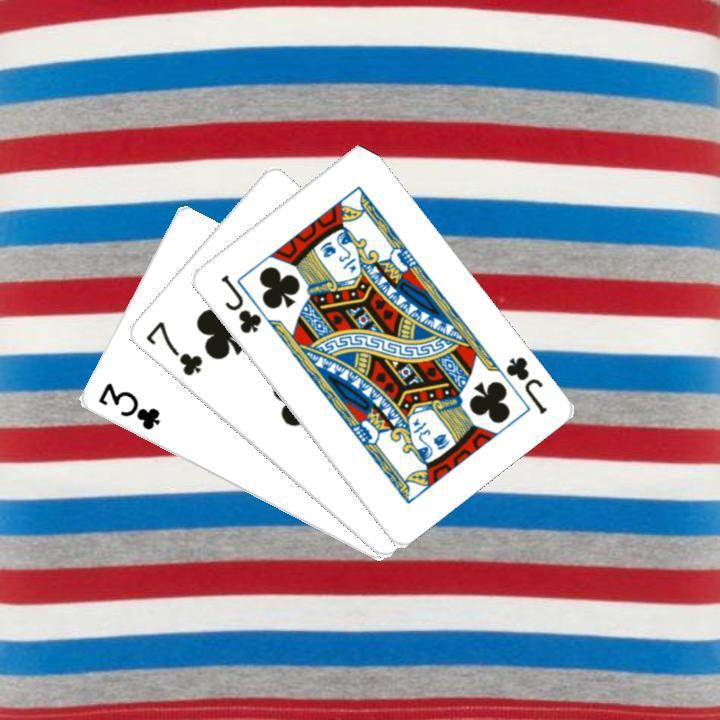3: (93, 378, 162, 433)
7: (140, 317, 205, 379)
J: (215, 270, 264, 336), (500, 351, 549, 417)
